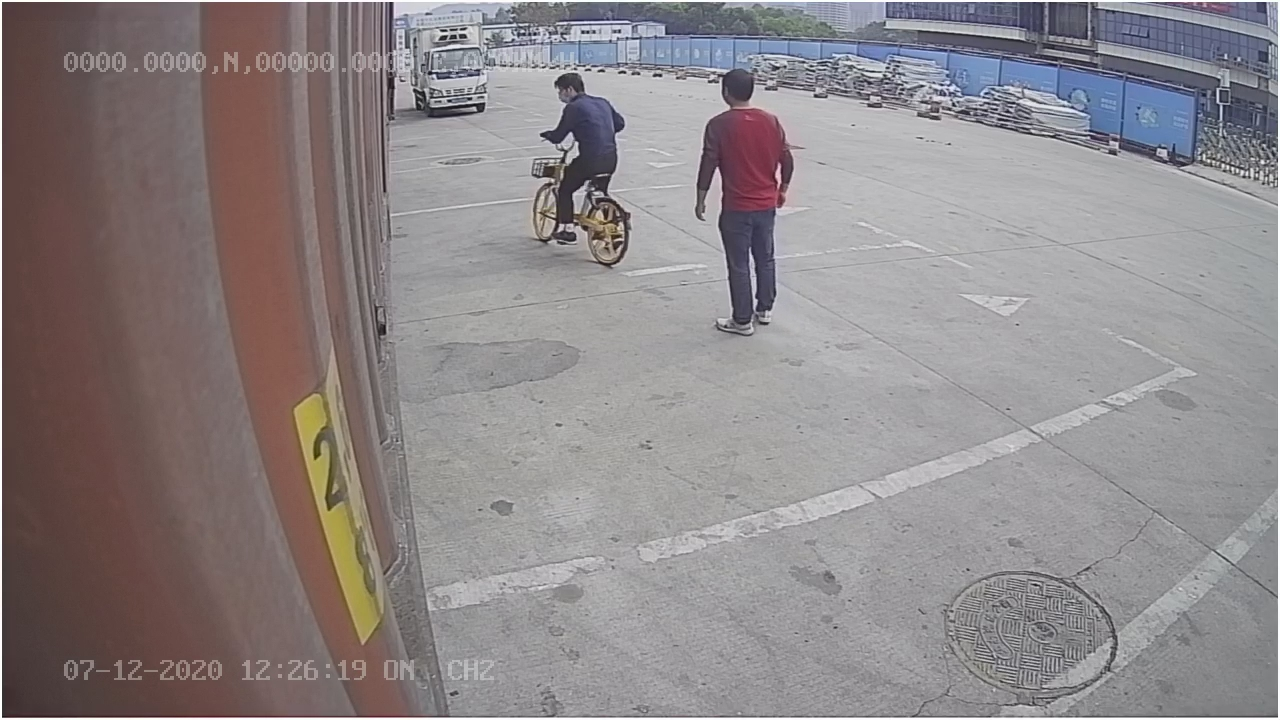person: (688, 65, 799, 341)
